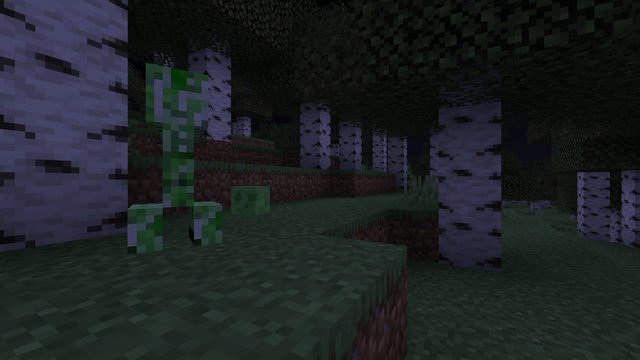creepers: (127, 50, 222, 254)
slimes: (230, 185, 270, 216)
